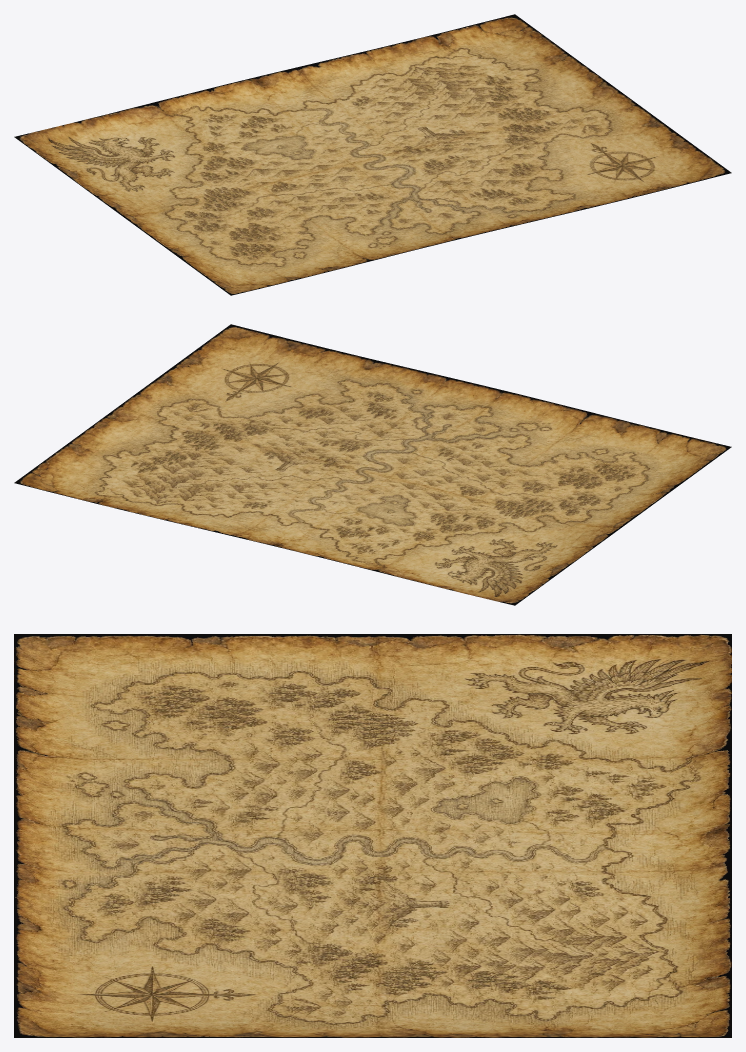
File: map.glb
The picture shows the model from 3 angles, top to bottom: view 1: azimuth 30°, elevation 25°; view 2: azimuth 150°, elevation 25°; view 3: azimuth 270°, elevation 25°; orthographic projection. The views are drawn at different scales.
Visible parts, largest first — view 1: Grid; view 2: Grid; view 3: Grid.
Boxes of the visible parts, <box> form: Grid: <box>14,14,731,295</box>; Grid: <box>14,324,731,605</box>; Grid: <box>14,634,731,1037</box>.
Size of the model in its own units: 2.4 by 0.0346 by 1.8.
Materials: 1 (1 with a texture image).
